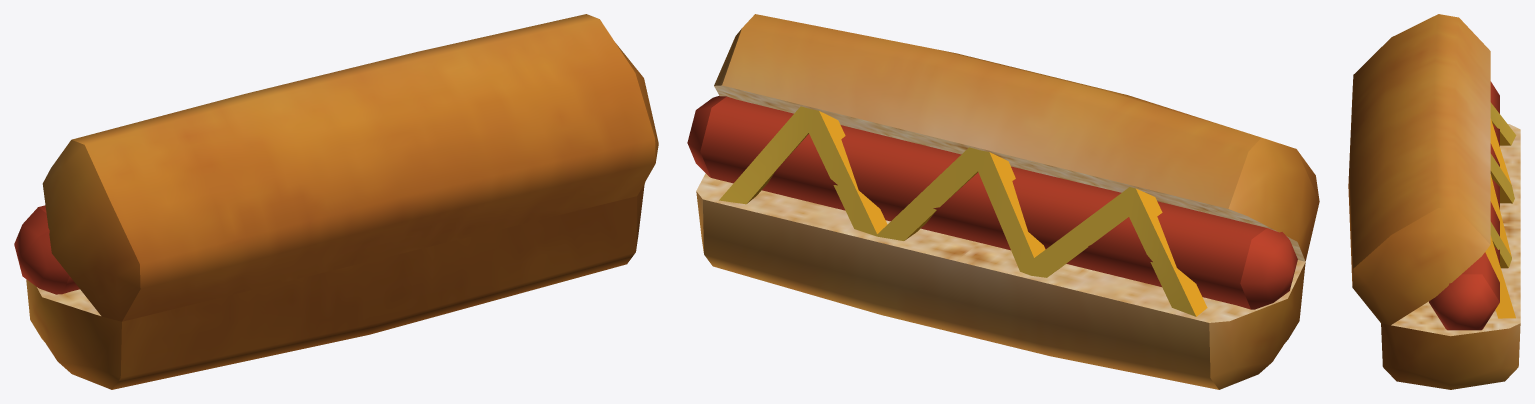
The model's file is HotDog.fbx.
The picture shows the model from 3 angles, left to right: view 1: azimuth 30°, elevation 25°; view 2: azimuth 150°, elevation 25°; view 3: azimuth 270°, elevation 25°; orthographic projection. The views are drawn at different scales.
Visible parts, largest first — view 1: HotDog; view 2: HotDog; view 3: HotDog.
Part boxes in pixels (x1=…): HotDog: x1=14, y1=14, x2=658, y2=389; HotDog: x1=687, y1=14, x2=1319, y2=389; HotDog: x1=1348, y1=14, x2=1520, y2=389.
Size of the model in its own units: 21.06 by 6.67 by 8.28.
